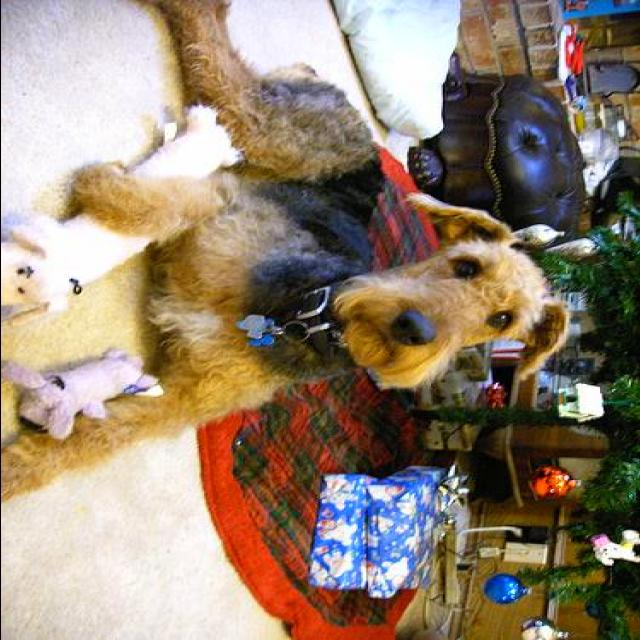airedale: (2, 0, 572, 500)
